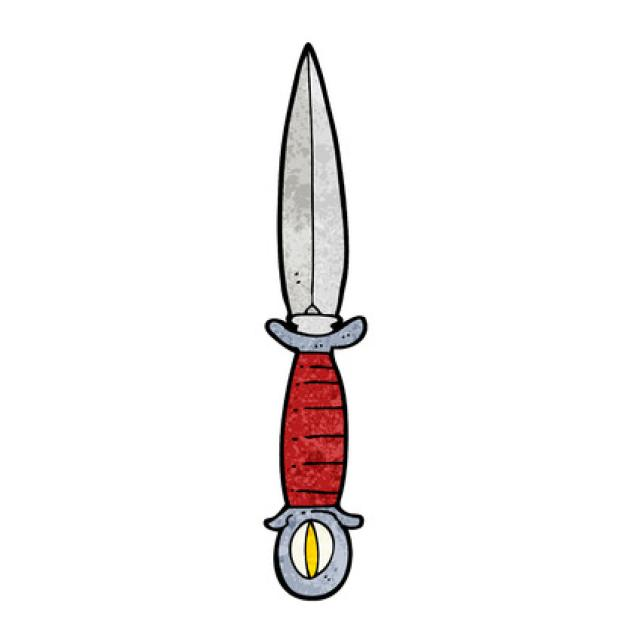Gun: (219, 21, 399, 621)
